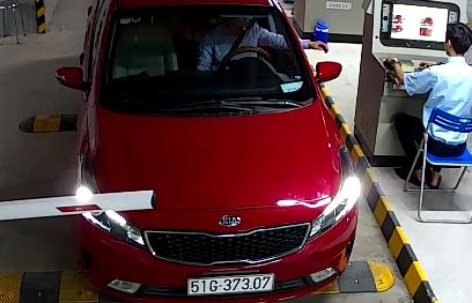plate: (184, 268, 275, 295)
